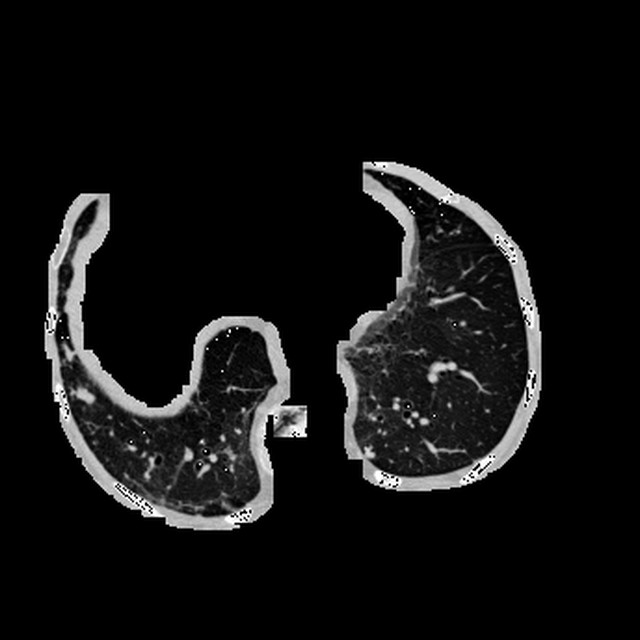PN: (76, 387, 91, 402)
